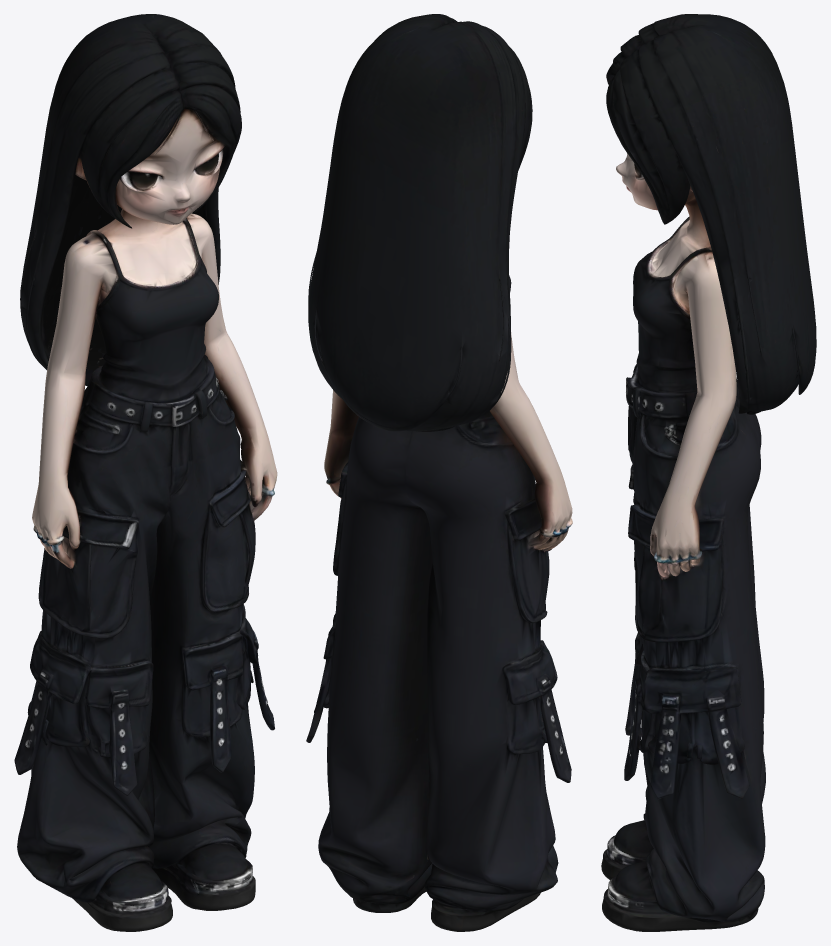
The picture shows the model from 3 angles, left to right: view 1: azimuth 30°, elevation 25°; view 2: azimuth 150°, elevation 25°; view 3: azimuth 270°, elevation 25°; orthographic projection.
Visible parts, largest first — view 1: node_0; view 2: node_0; view 3: node_0.
Boxes of the visible parts, x1,y1,x2,y2 form: node_0: (14,14,277,931); node_0: (306,14,572,931); node_0: (601,14,816,931).
Size of the model in its own units: 0.3479 by 1.17 by 0.2618.
1 material, 1 textured.
